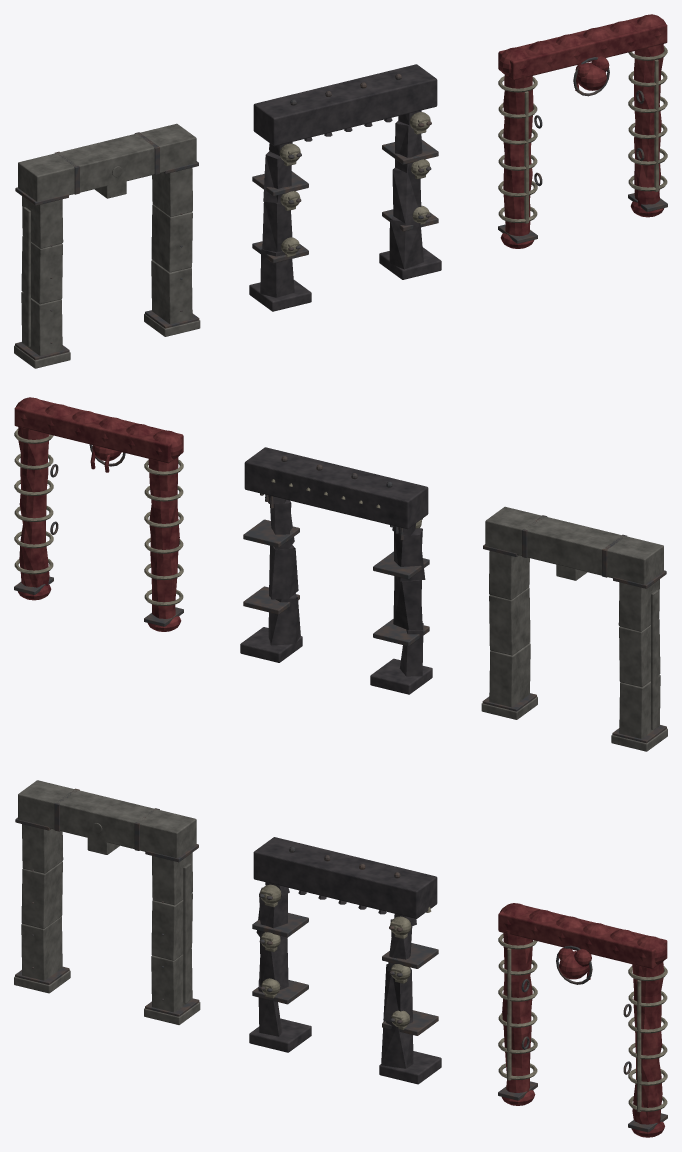
Rendered from ironwood_gates.glb.
3 renders of one model, top to bottom at view 1: azimuth 30°, elevation 25°; view 2: azimuth 150°, elevation 25°; view 3: azimuth 330°, elevation 25°, orthographic.
Parts seen in each view (by area): view 1: Gate_Watchers, Gate_Demons, Gate_Clones; view 2: Gate_Watchers, Gate_Demons, Gate_Clones; view 3: Gate_Watchers, Gate_Demons, Gate_Clones.
Boxes of the visible parts, bbox=[...] form: Gate_Watchers: bbox=[14, 123, 200, 368]; Gate_Demons: bbox=[249, 64, 441, 311]; Gate_Clones: bbox=[498, 14, 667, 248]; Gate_Watchers: bbox=[481, 506, 667, 751]; Gate_Demons: bbox=[240, 447, 432, 694]; Gate_Clones: bbox=[14, 397, 183, 631]; Gate_Watchers: bbox=[14, 780, 200, 1024]; Gate_Demons: bbox=[249, 837, 441, 1084]; Gate_Clones: bbox=[498, 903, 667, 1137].
Bounding box in the file's own units: 12.82 × 3.86 × 1.
Materials: 5 (5 with a texture image).
